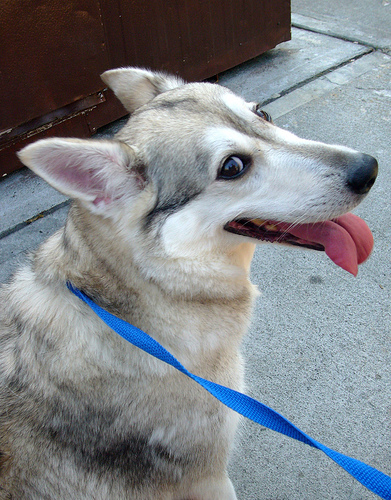dog: (0, 66, 379, 498)
